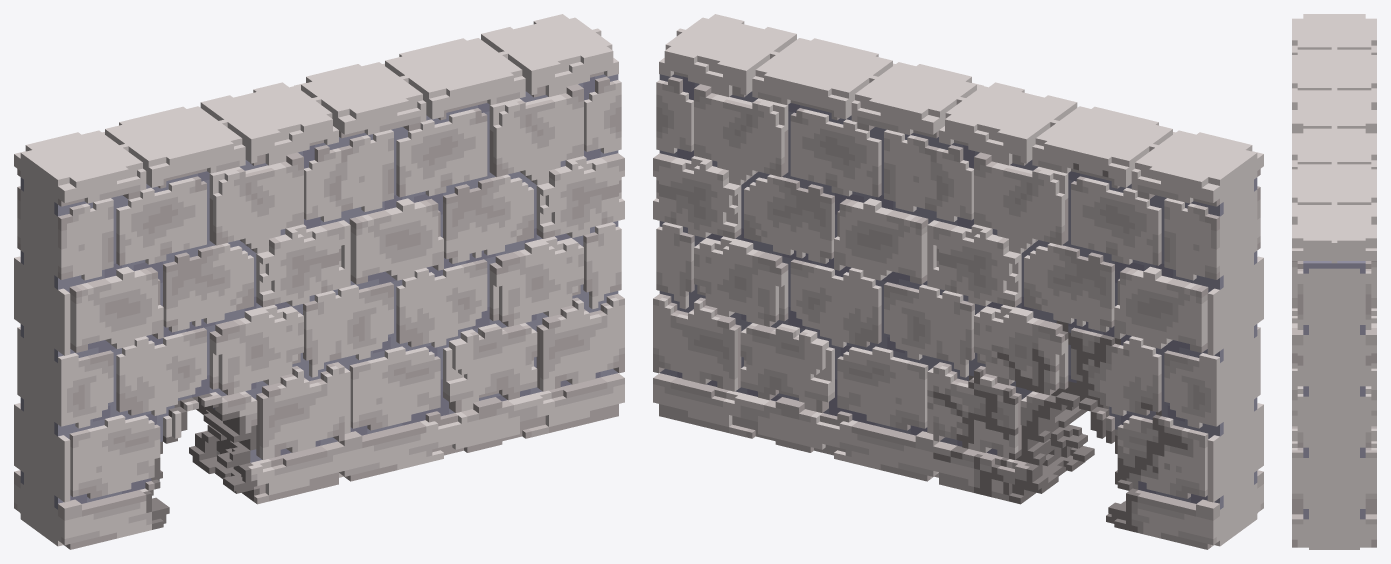
The model's file is WallHole3.obj.
3 views of the same model, side by side, from view 1: azimuth 30°, elevation 25°; view 2: azimuth 150°, elevation 25°; view 3: azimuth 270°, elevation 25° (orthographic). The views are drawn at different scales.
Size of the model in its own units: 9.6 by 6 by 1.5.
1 material, 1 textured.
